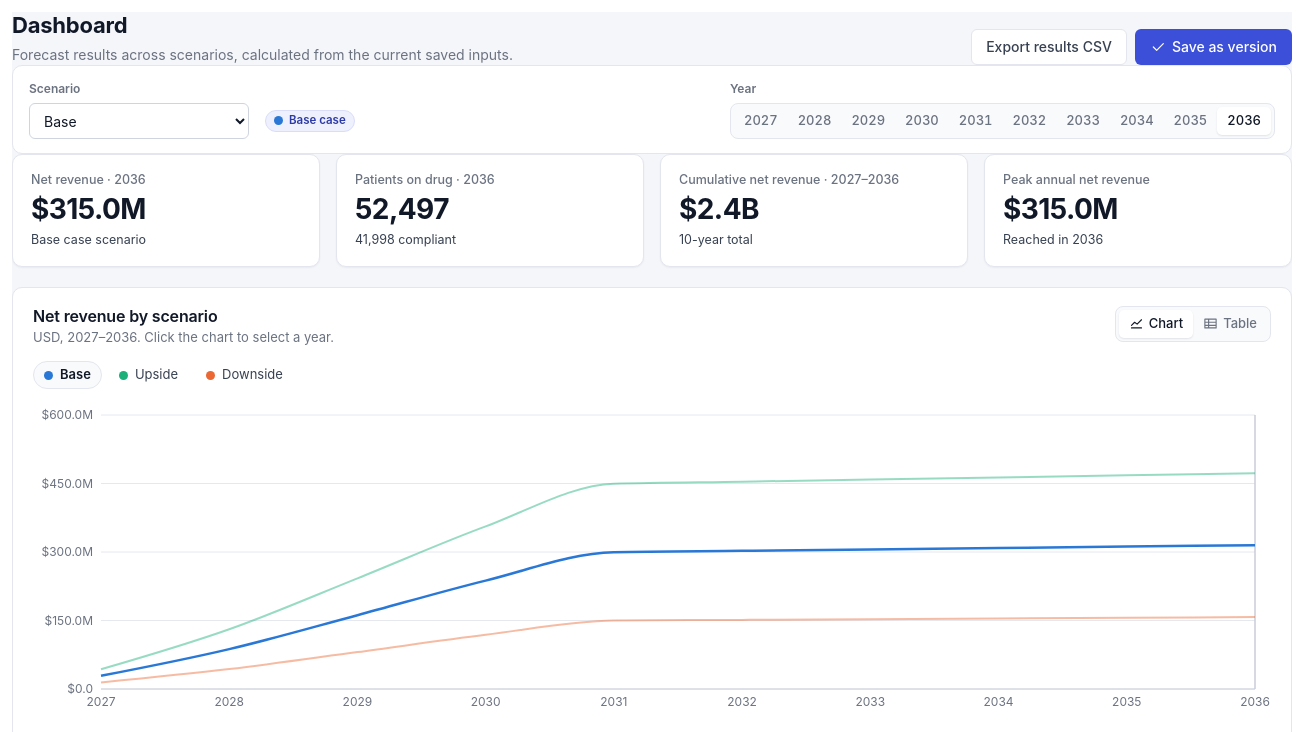
Test: DashboardPage › shows KPI cards for the selected year
Click the button "2027" at (761, 120), box [734, 106, 788, 134]
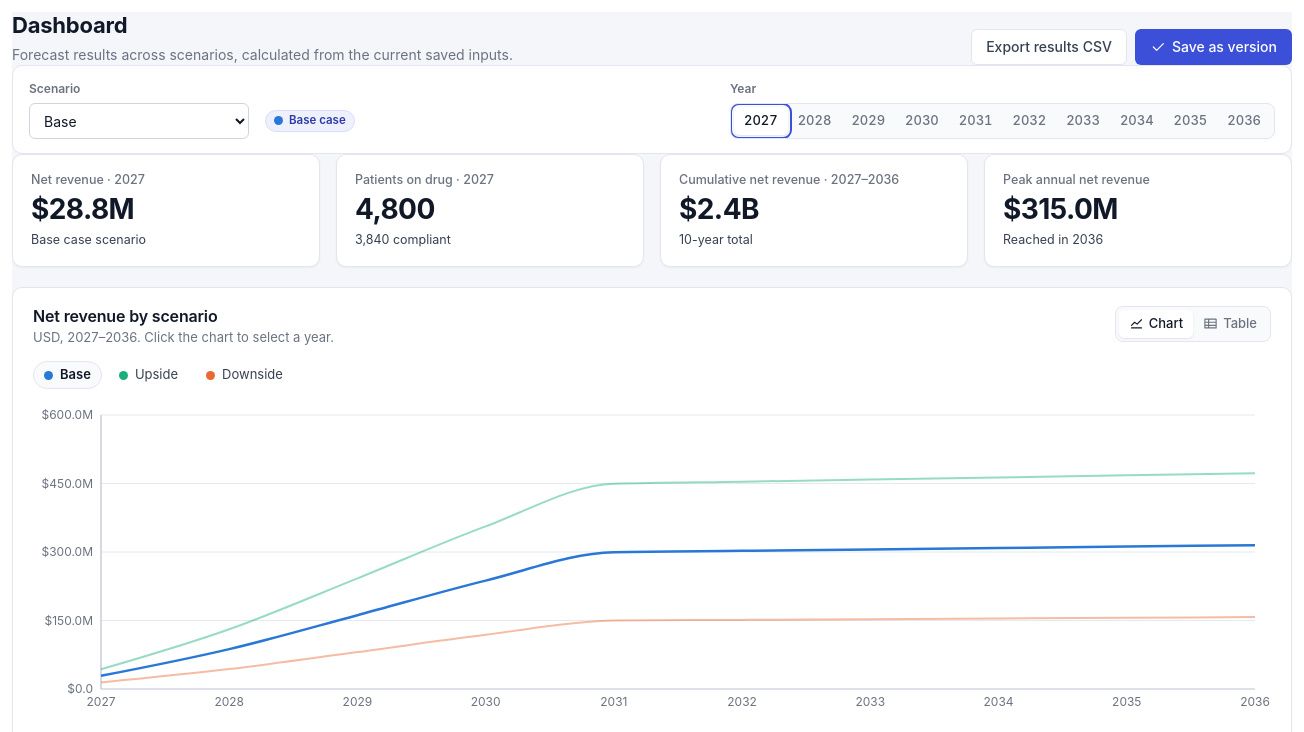
Expected: the text "Peak annual net revenue $315.0M Reached in 2036" is shown, [984, 154, 1292, 267]
Result: the text "Net revenue · 2027 $28.8M Base case scenario" is shown at [12, 154, 320, 267]
Result: the text "Patients on drug · 2027 4,800 3,840 compliant" is shown at [336, 154, 644, 267]
